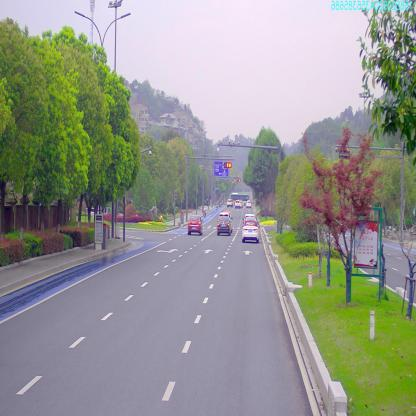traffic-light: (223, 161, 232, 169)
